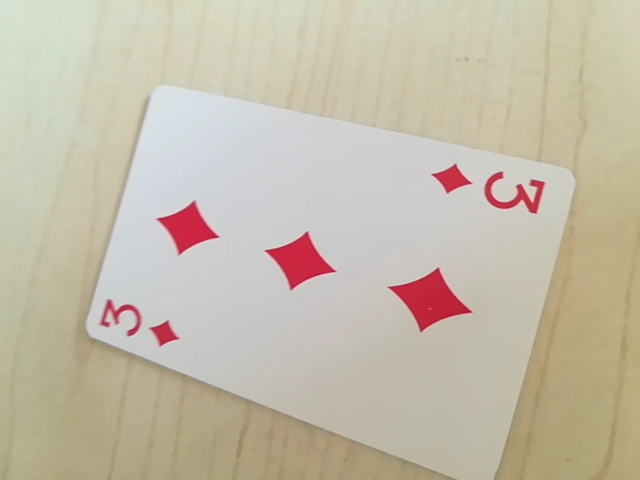fk 3: (428, 162, 548, 216), (94, 293, 187, 350)
